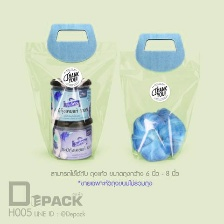snack: (18, 17, 123, 167), (114, 28, 205, 166)
